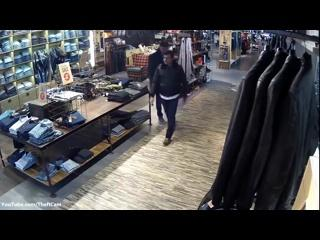Normal: (152, 50, 188, 146), (148, 39, 170, 126)
